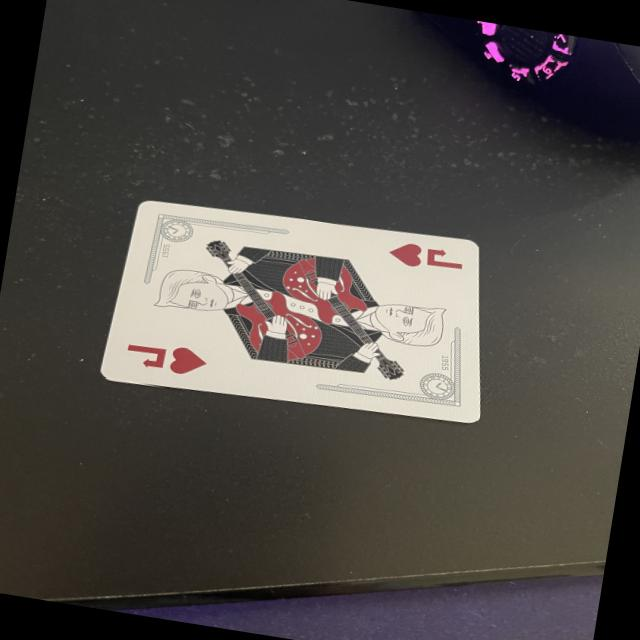Jack of hearts: (102, 203, 478, 421)
